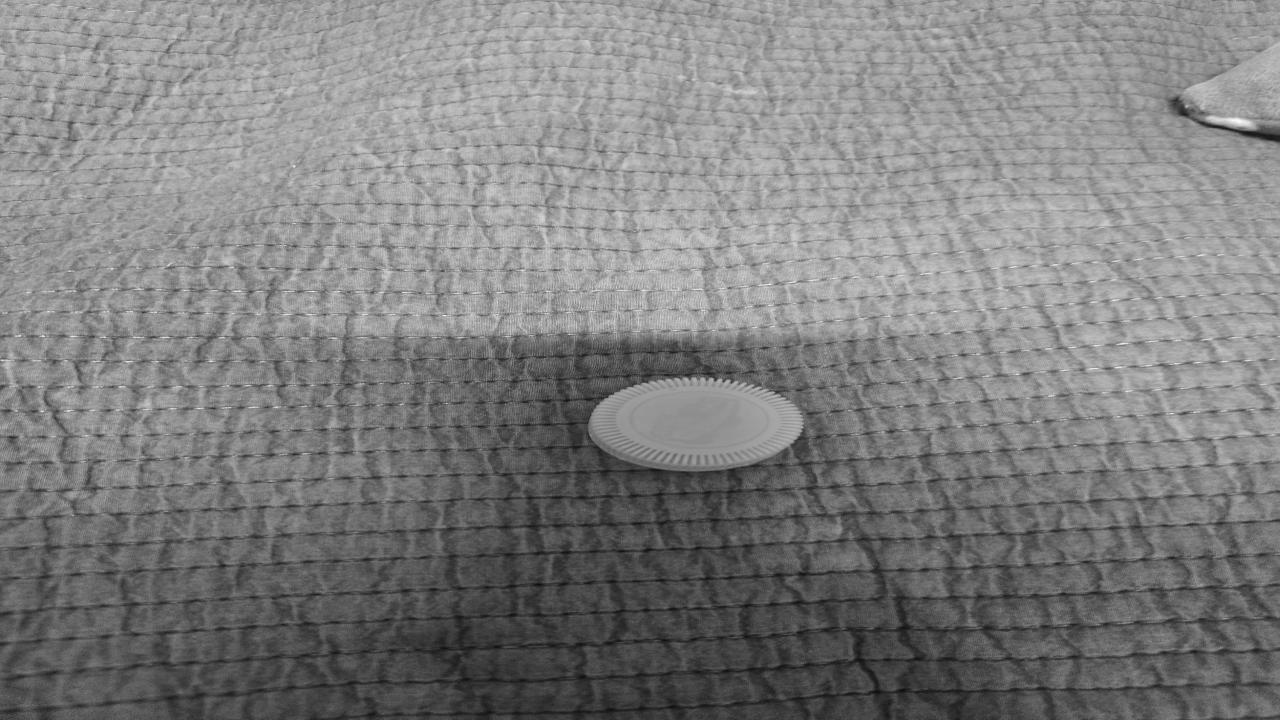bottle_cap: (586, 378, 812, 472)
